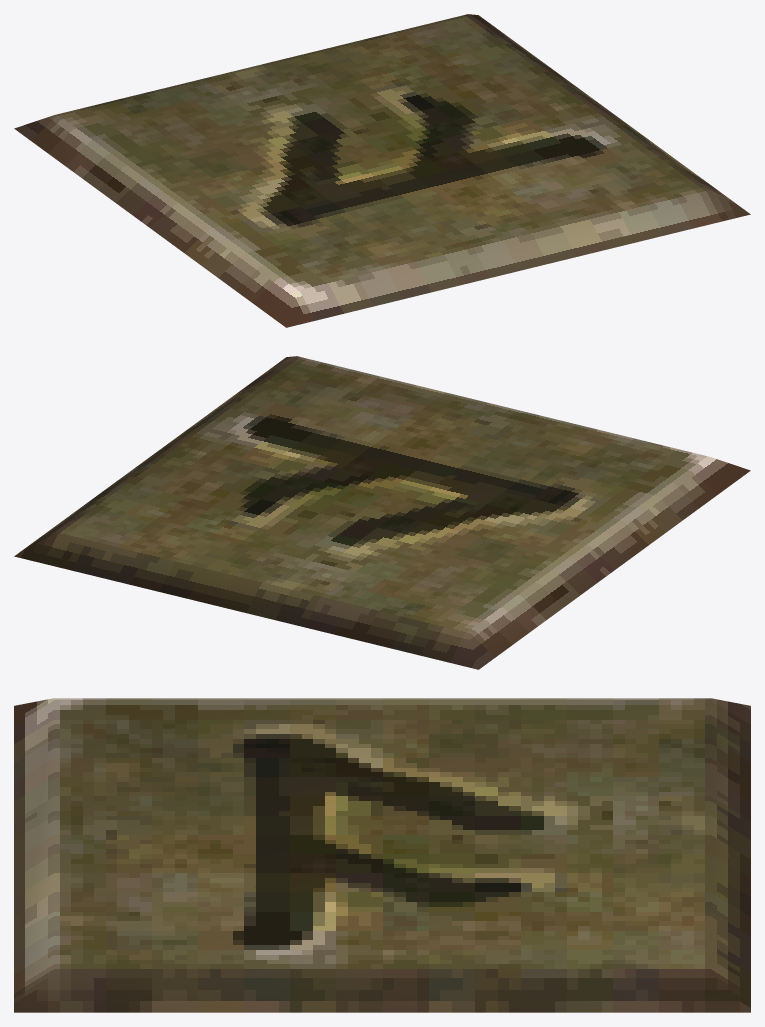
Rendered from EREBOR_RUNE_PZL_EREBOR_PZL_TILE_STATIC07.fbx.
3 views of the same model, one above another, from view 1: azimuth 30°, elevation 25°; view 2: azimuth 150°, elevation 25°; view 3: azimuth 270°, elevation 25° (orthographic). The views are drawn at different scales.
Visible parts, largest first — view 1: EREBOR_RUNE_PZL_EREBOR_PZL_TILE_STATIC07; view 2: EREBOR_RUNE_PZL_EREBOR_PZL_TILE_STATIC07; view 3: EREBOR_RUNE_PZL_EREBOR_PZL_TILE_STATIC07.
Part boxes in pixels (x1=…): EREBOR_RUNE_PZL_EREBOR_PZL_TILE_STATIC07: x1=14, y1=14, x2=750, y2=327; EREBOR_RUNE_PZL_EREBOR_PZL_TILE_STATIC07: x1=14, y1=356, x2=750, y2=669; EREBOR_RUNE_PZL_EREBOR_PZL_TILE_STATIC07: x1=14, y1=698, x2=750, y2=1012.
Bounding box in the file's own units: 9945 × 370 × 10093.
1 material, 1 textured.
